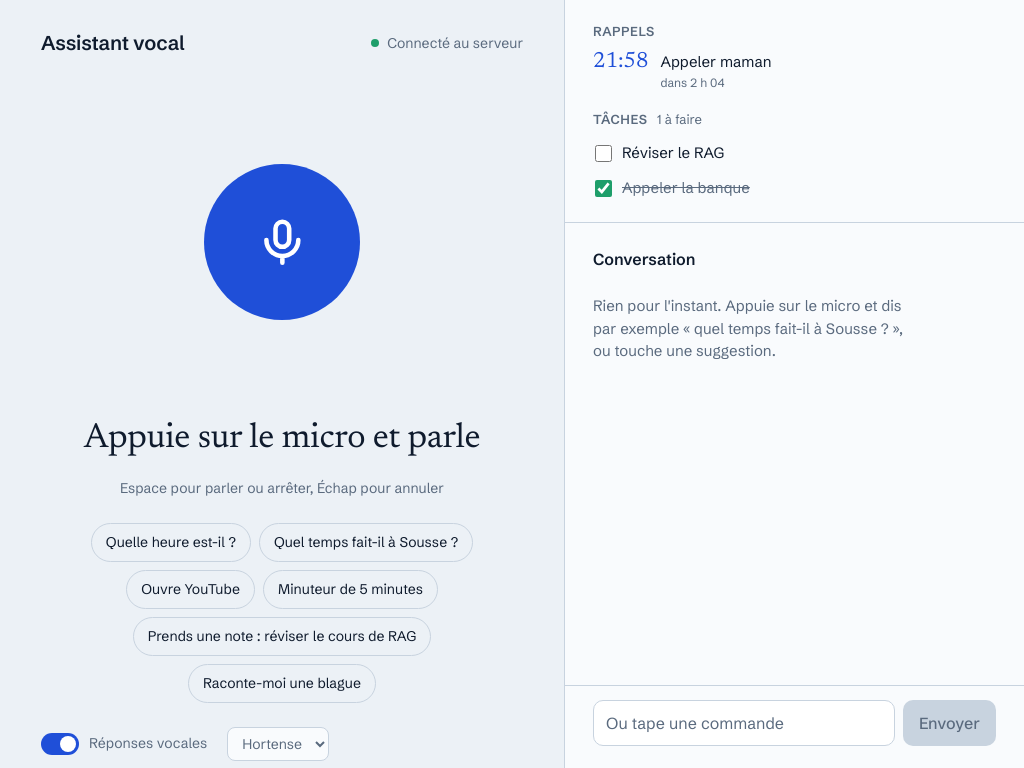
Test case: Assistant vocal › panneau : rappels et tâches, une tâche se coche
The width and height of the screenshot is (1024, 768).
Expected: the text "Connecté au serveur" is shown, [371,32,523,54]
Expected: the text "Appeler maman" is shown, [660,52,771,70]
Click the checkbox labelled "Réviser le RAG" at (604, 154), box [595,145,612,162]
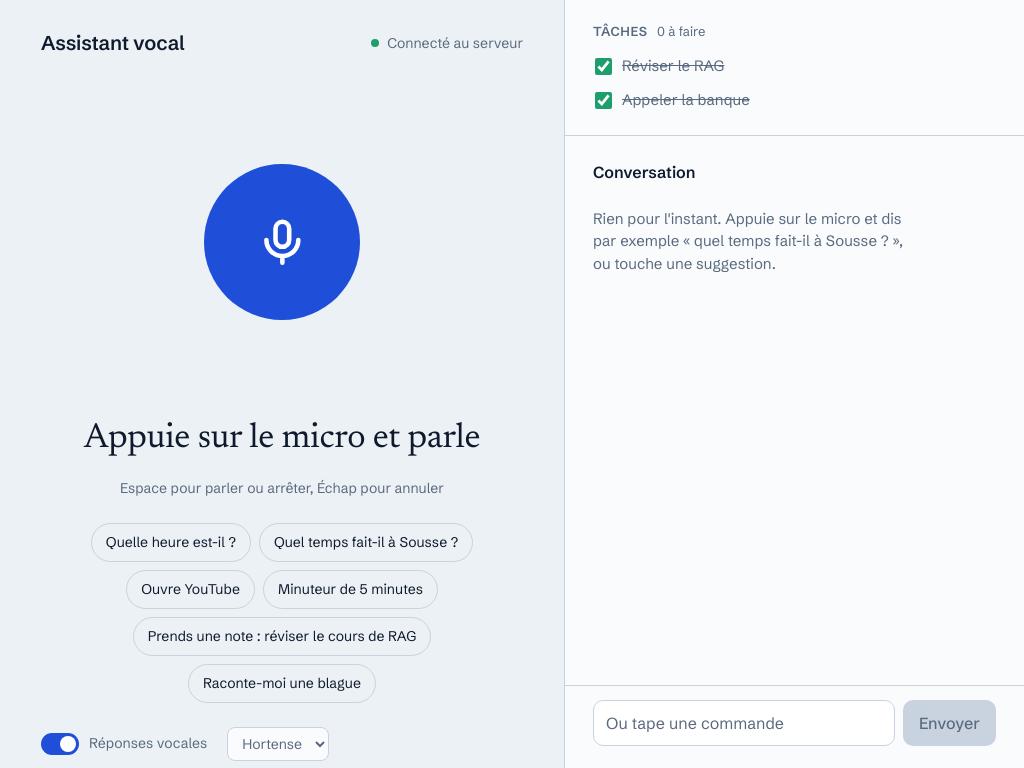
Now the text "0 à faire" is shown, box [657,23,705,39]
